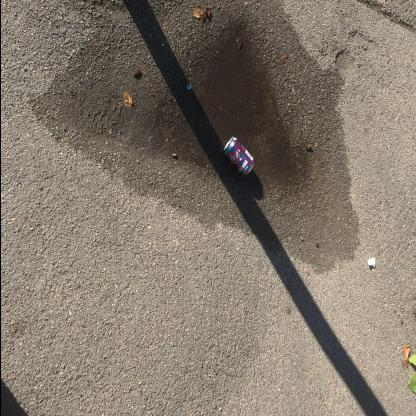metal: (222, 136, 254, 176)
